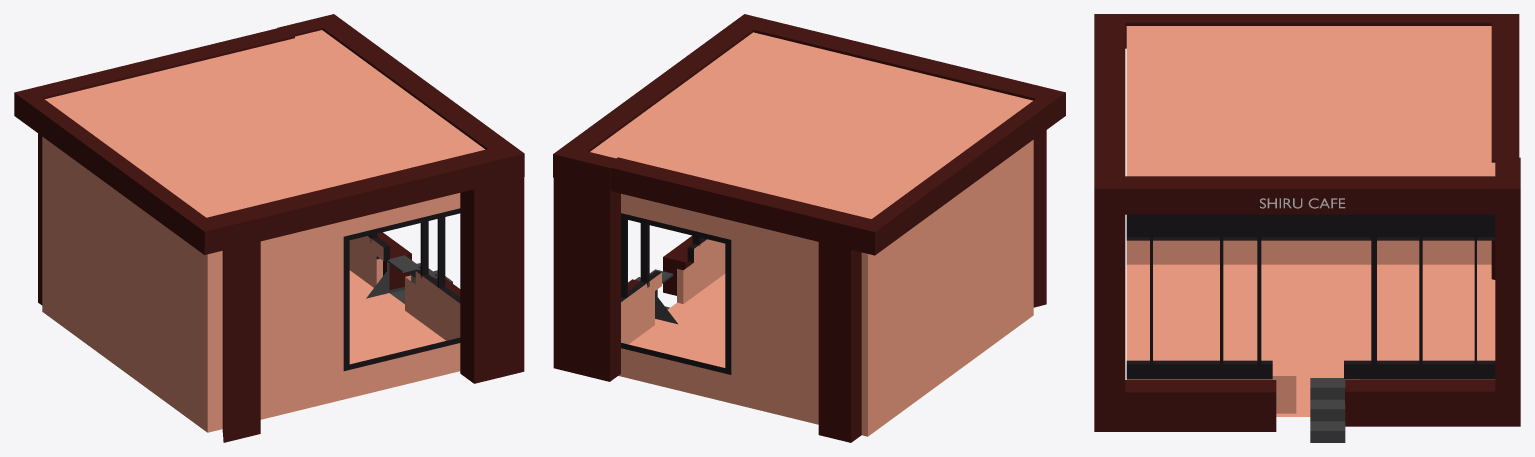
File: shirucafe.glb
3 renders of one model, left to right at view 1: azimuth 30°, elevation 25°; view 2: azimuth 150°, elevation 25°; view 3: azimuth 270°, elevation 25°, orthographic. The views are drawn at different scales.
Parts seen in each view (by area): view 1: Cube, Cube.003, Stairs; view 2: Cube, Cube.003; view 3: Cube, Cube.003, Stairs, Text.
Part boxes in pixels (x1,y1,x2,y2): Cube: (42,30,484,432); Cube.003: (14,14,524,442); Stairs: (366,255,452,303); Cube: (590,32,1033,436); Cube.003: (553,14,1065,442); Cube: (1126,26,1495,416); Cube.003: (1094,14,1520,431); Stairs: (1310,378,1345,442); Text: (1260,198,1345,208).
Bounding box in the file's own units: 13.15 × 7.93 × 12.58.
